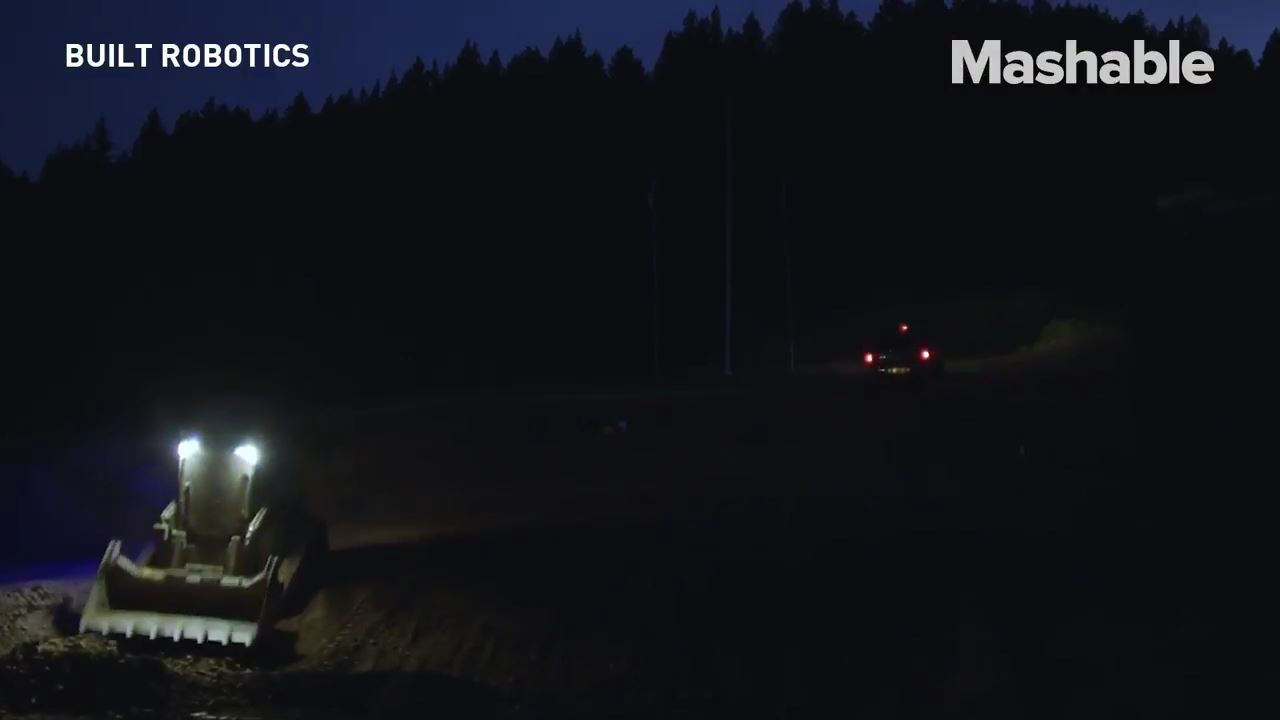con_eq: (64, 416, 324, 646), (856, 319, 944, 406)
